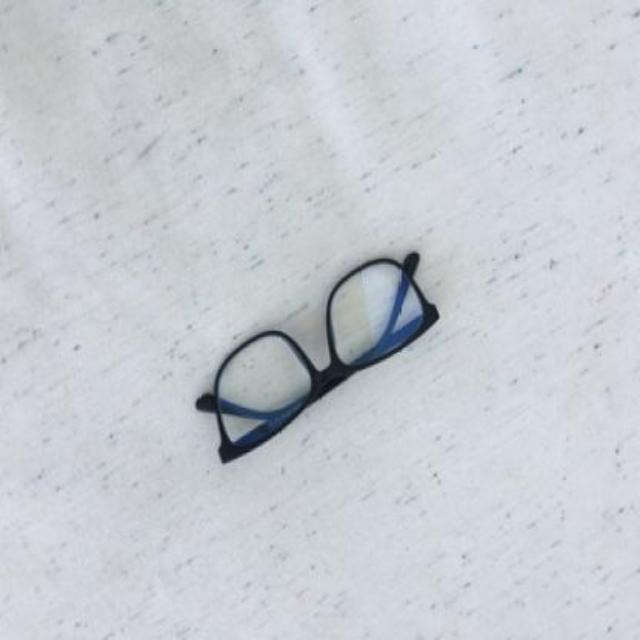glasses: (194, 252, 440, 464)
